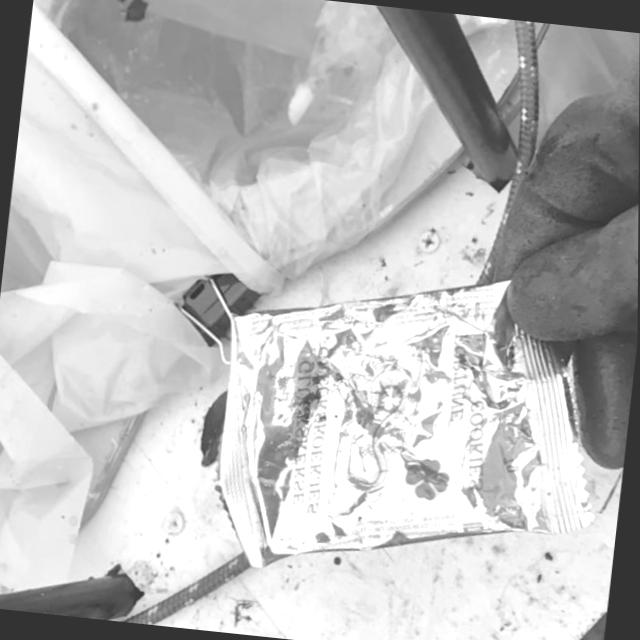Plastic: (195, 245, 624, 608)
